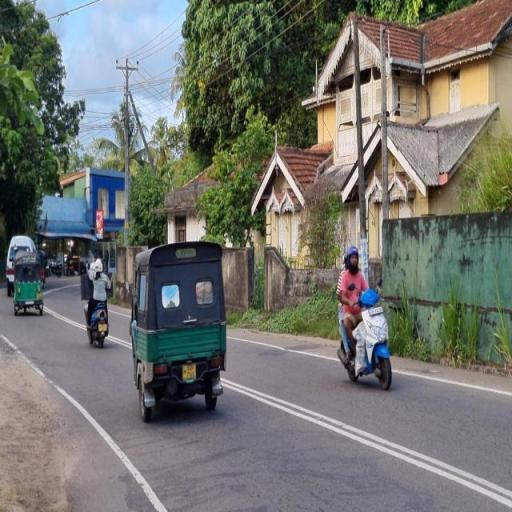double_white_line: (226, 371, 510, 511), (271, 152, 308, 214)
